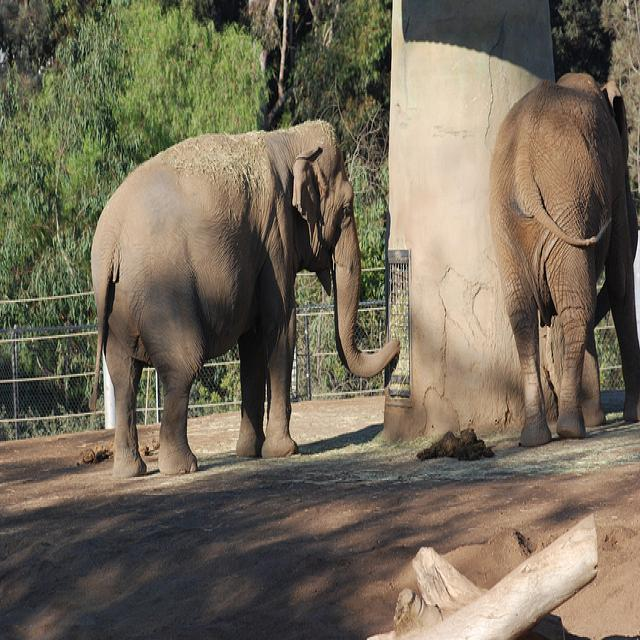Elephant: (88, 117, 400, 477), (488, 70, 639, 447)
